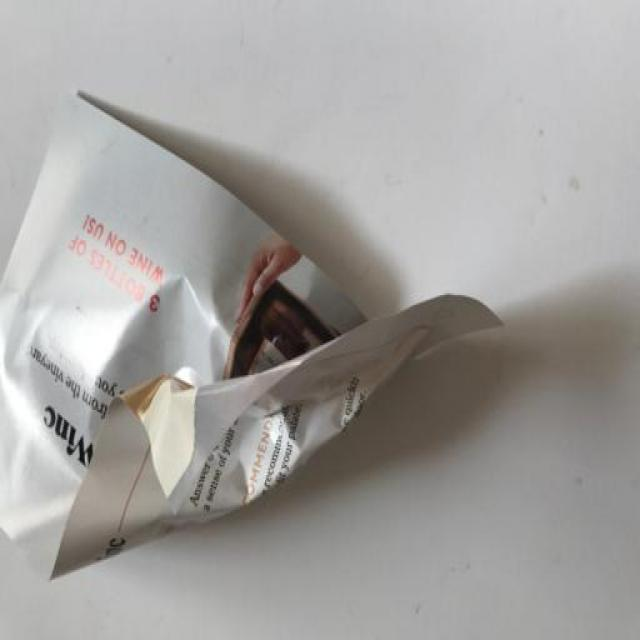paper: (5, 84, 521, 604)
